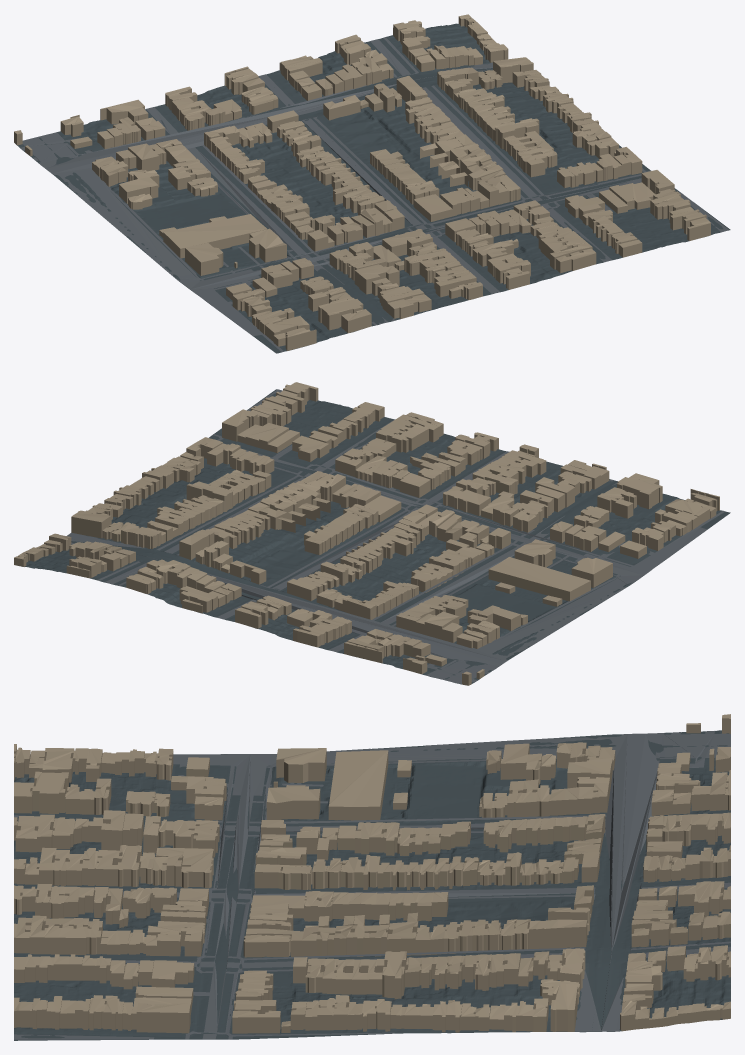
Rendered from epsg26910-1422-10884.lod0.glb.
3 views of the same model, one above another, from view 1: azimuth 30°, elevation 25°; view 2: azimuth 150°, elevation 25°; view 3: azimuth 270°, elevation 25° (orthographic). The views are drawn at different scales.
Parts seen in each view (by area): view 1: epsg26910-1422-10884-lod0; view 2: epsg26910-1422-10884-lod0; view 3: epsg26910-1422-10884-lod0.
Boxes of the visible parts, x1,y1,x2,y2 form: epsg26910-1422-10884-lod0: (14,14,730,353); epsg26910-1422-10884-lod0: (14,382,730,685); epsg26910-1422-10884-lod0: (14,714,730,1040).
Bounding box in the file's own units: 384 × 37.09 × 384.
